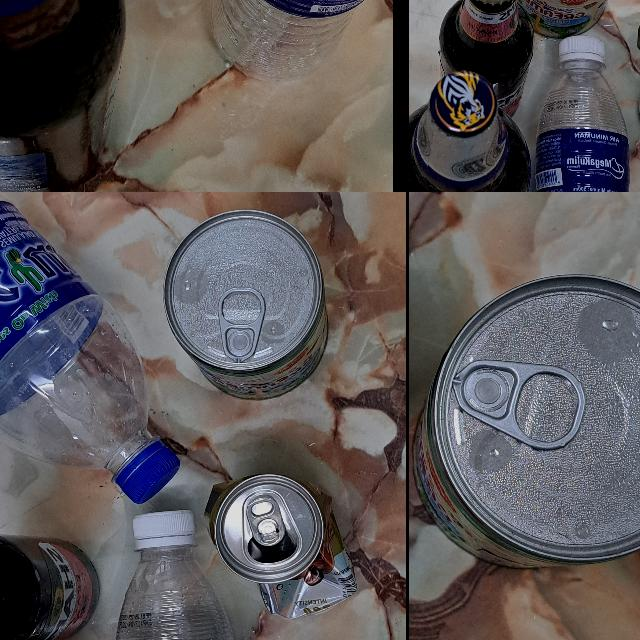aba de lata: (451, 359, 583, 448), (219, 287, 265, 361), (248, 494, 284, 546)
garrafa de vidro: (0, 0, 122, 192), (409, 70, 531, 192), (439, 0, 534, 120), (0, 534, 99, 640)
garrafa plástica: (0, 192, 152, 467), (211, 0, 393, 81), (530, 63, 631, 192), (112, 549, 247, 640)
lata: (413, 273, 640, 574), (164, 208, 326, 400), (203, 471, 357, 621), (514, 0, 630, 39)
tampa plástica: (116, 441, 180, 503), (134, 511, 196, 552), (558, 37, 606, 65)
